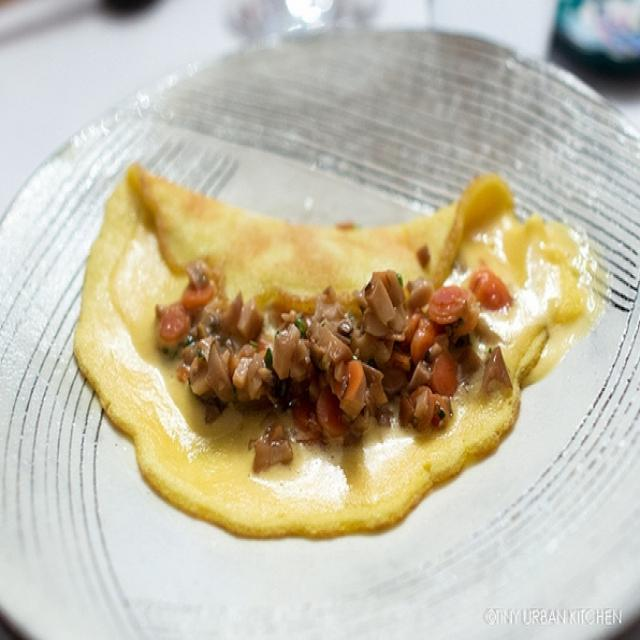熟制海鲜: (9, 23, 636, 612)
